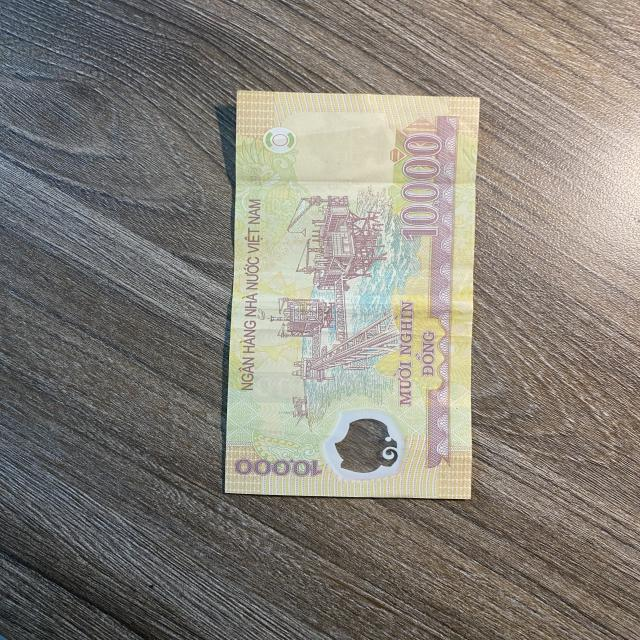10 000 VND: (222, 88, 482, 501)
